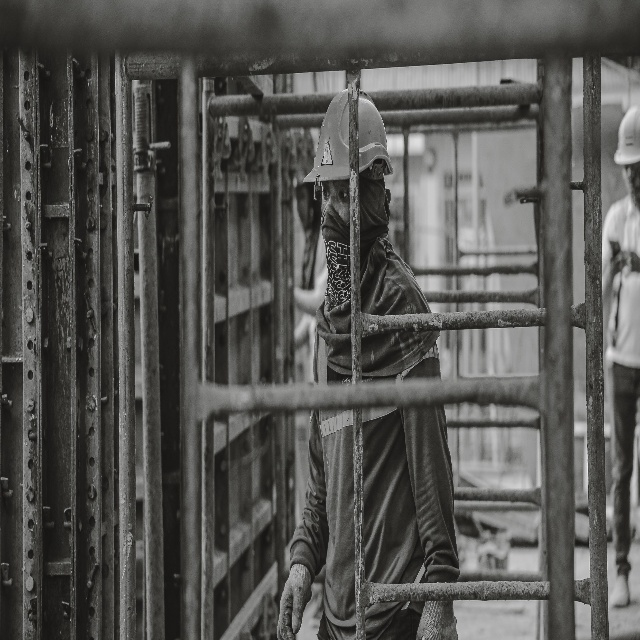Guantes: (278, 567, 311, 635), (411, 599, 458, 640)
